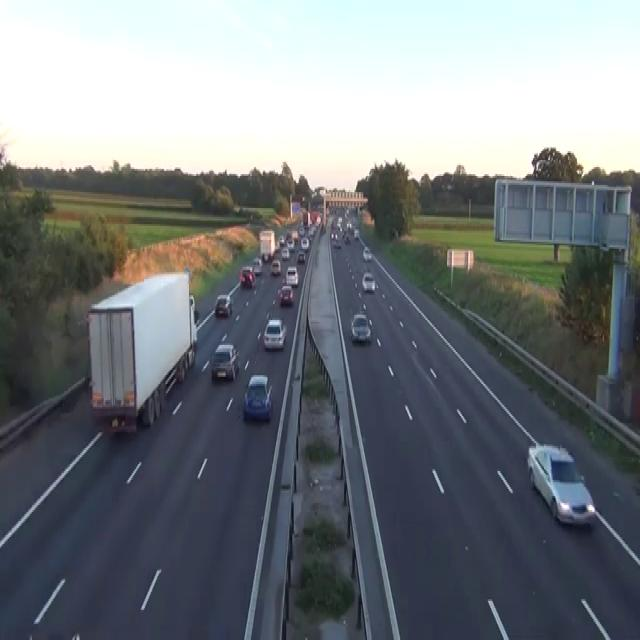Car: (526, 443, 595, 526), (243, 374, 273, 422), (330, 210, 360, 249), (210, 343, 239, 381), (263, 318, 286, 350), (350, 313, 371, 343), (214, 294, 233, 316), (239, 265, 255, 288), (278, 284, 293, 306), (189, 294, 198, 326), (175, 356, 186, 382), (285, 265, 298, 286), (362, 272, 375, 292), (252, 256, 262, 276), (270, 260, 281, 276), (362, 246, 372, 262), (189, 293, 195, 313), (300, 237, 309, 250), (296, 251, 305, 263), (281, 247, 289, 260), (286, 238, 294, 251), (346, 220, 353, 233), (194, 308, 199, 326), (333, 237, 341, 247), (298, 226, 305, 236), (315, 215, 321, 226), (292, 231, 297, 244), (337, 215, 342, 228), (446, 182, 454, 190), (353, 228, 359, 238), (278, 235, 284, 245), (344, 234, 350, 243)
Truck: (86, 266, 197, 434), (259, 230, 275, 262), (302, 210, 311, 228)
